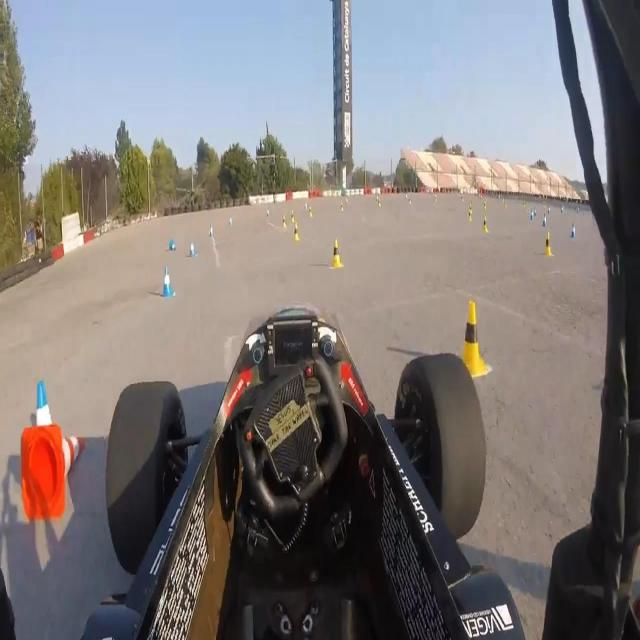blue_cone: (32, 373, 52, 426), (162, 264, 175, 299), (189, 238, 196, 261), (169, 236, 176, 254), (570, 222, 576, 241), (208, 224, 215, 238), (542, 212, 547, 228), (530, 208, 534, 221)
large_orange_cone: (19, 424, 86, 521)
yellow_cone: (463, 294, 488, 375), (330, 238, 344, 270), (544, 231, 553, 257), (293, 221, 300, 242), (482, 216, 488, 233), (282, 214, 287, 228), (468, 210, 473, 223), (309, 206, 313, 219), (290, 211, 294, 222), (469, 201, 473, 212), (340, 202, 344, 212), (483, 200, 486, 210), (378, 199, 381, 207)
